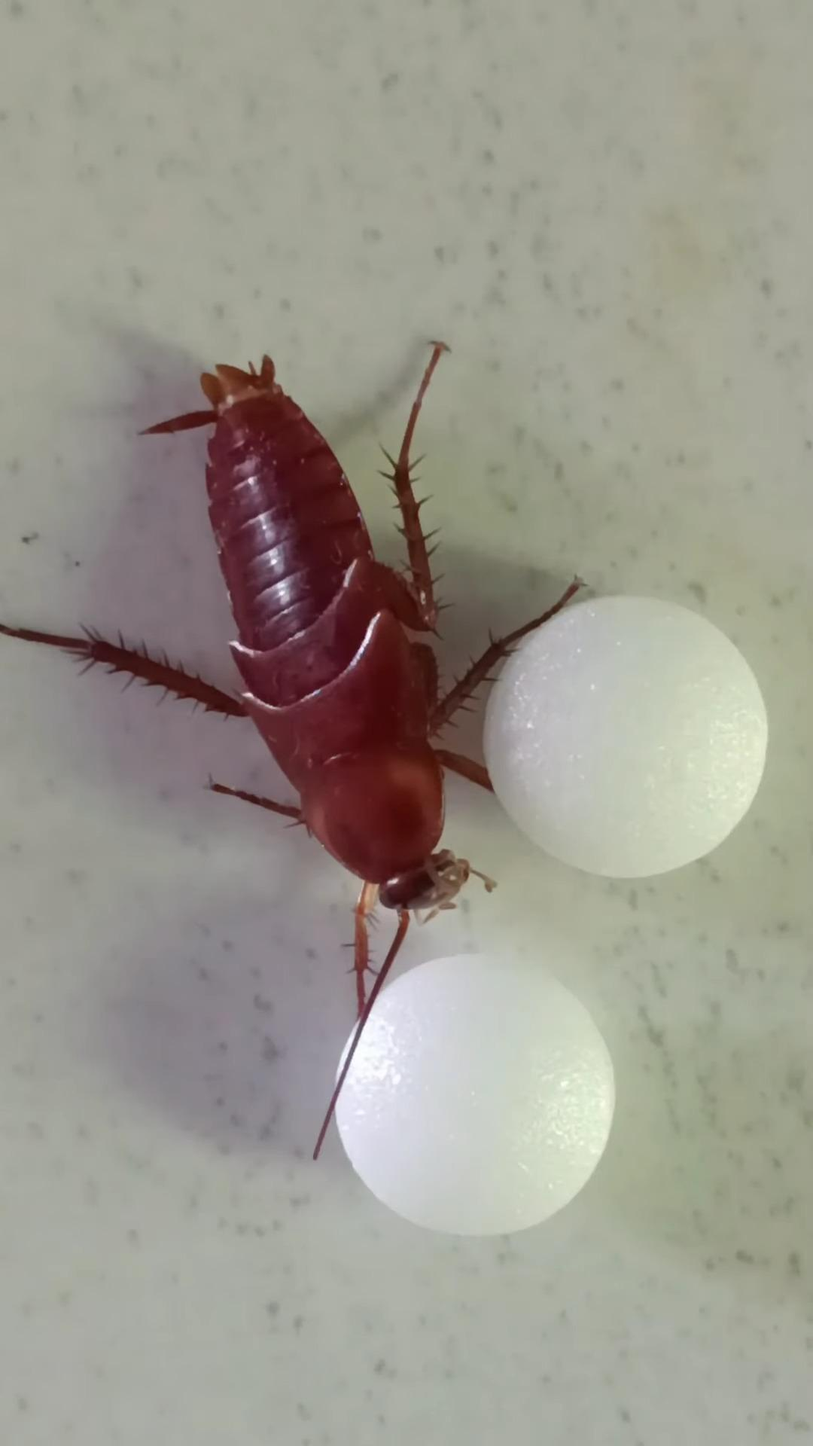cockroach: (1, 337, 478, 907)
